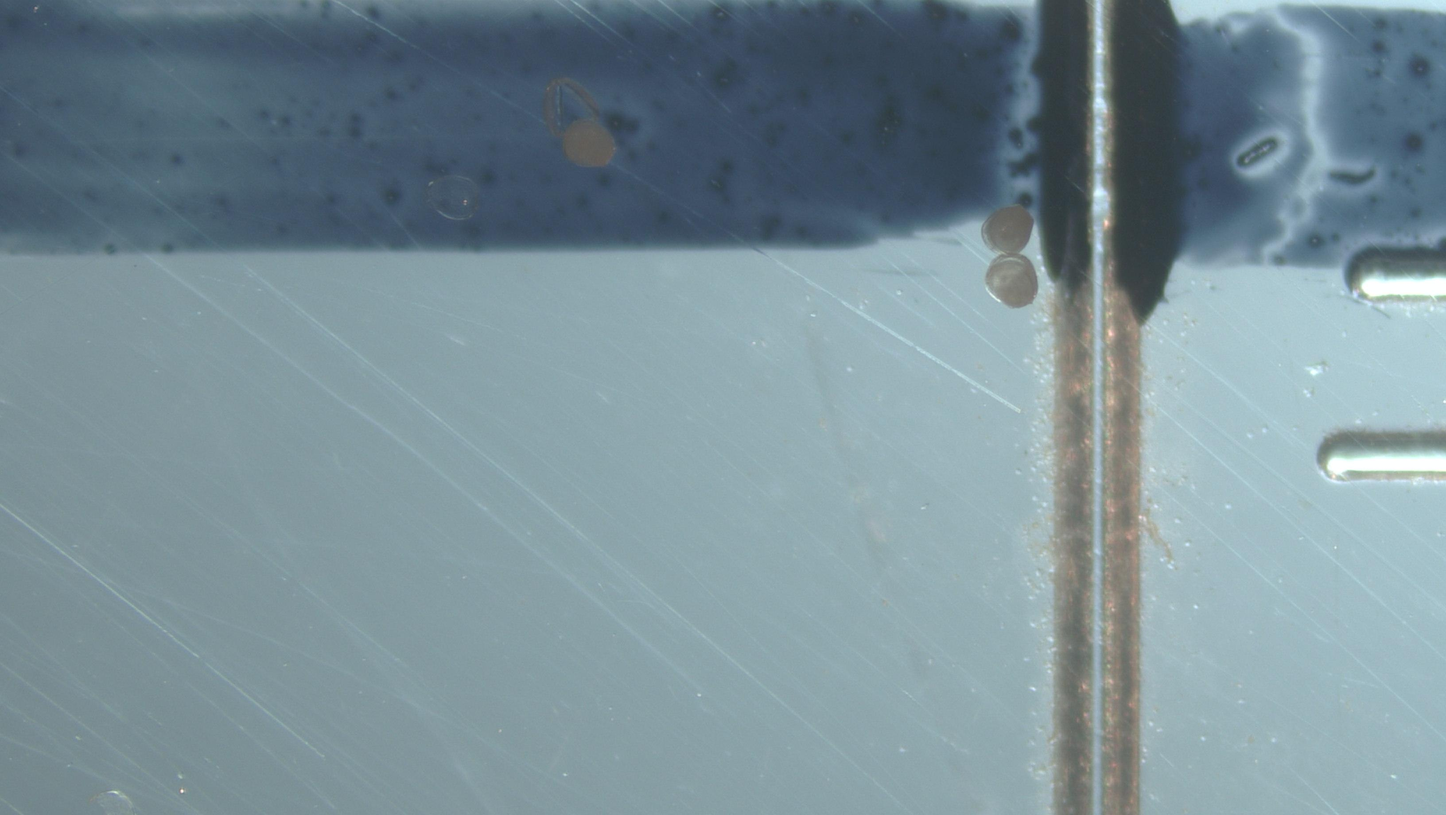dead: (544, 78, 600, 136), (426, 176, 480, 220)
live: (986, 254, 1038, 308), (982, 205, 1034, 253), (562, 120, 615, 167)
